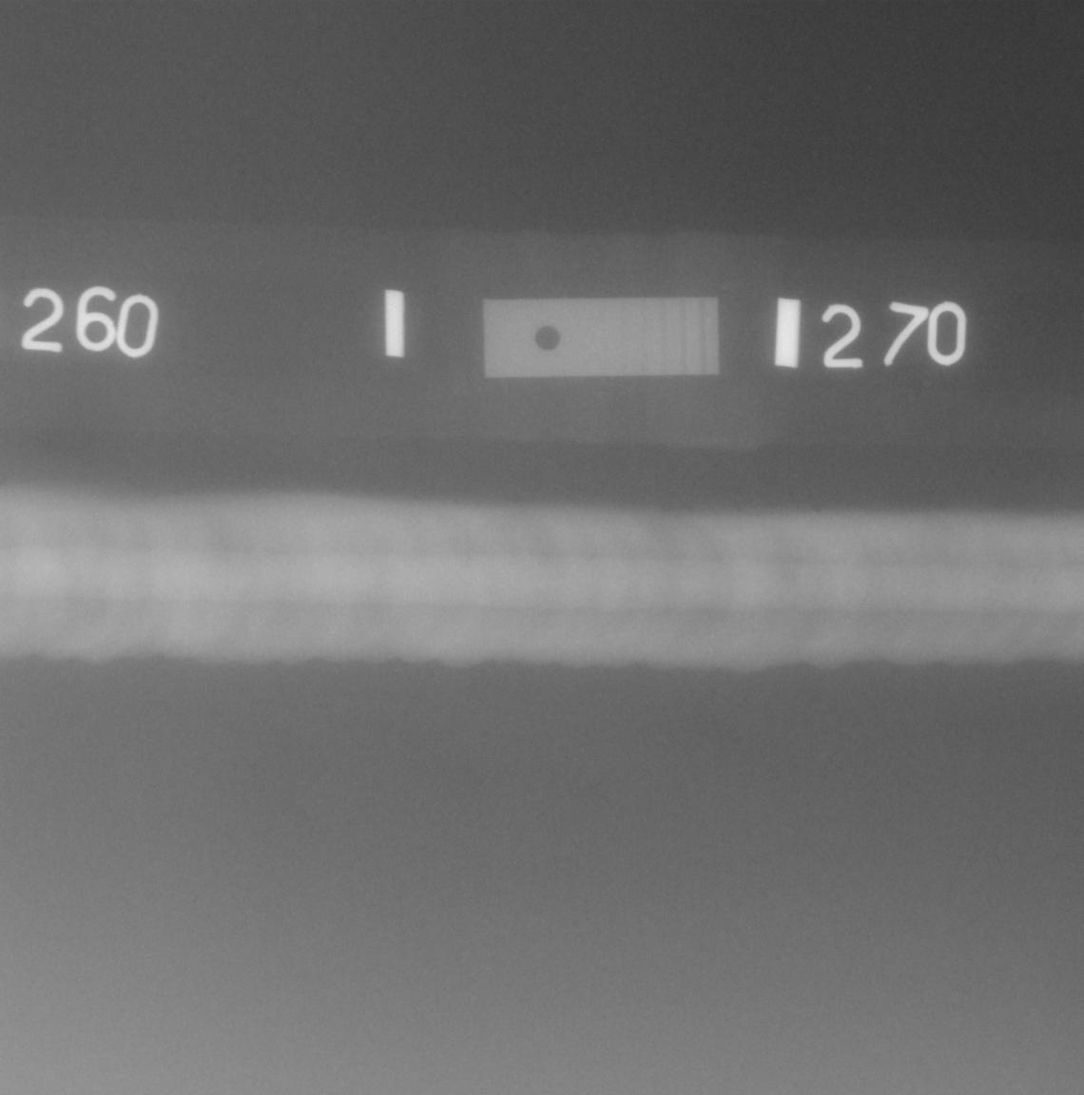Reference Standard 1: (483, 297, 719, 377)
